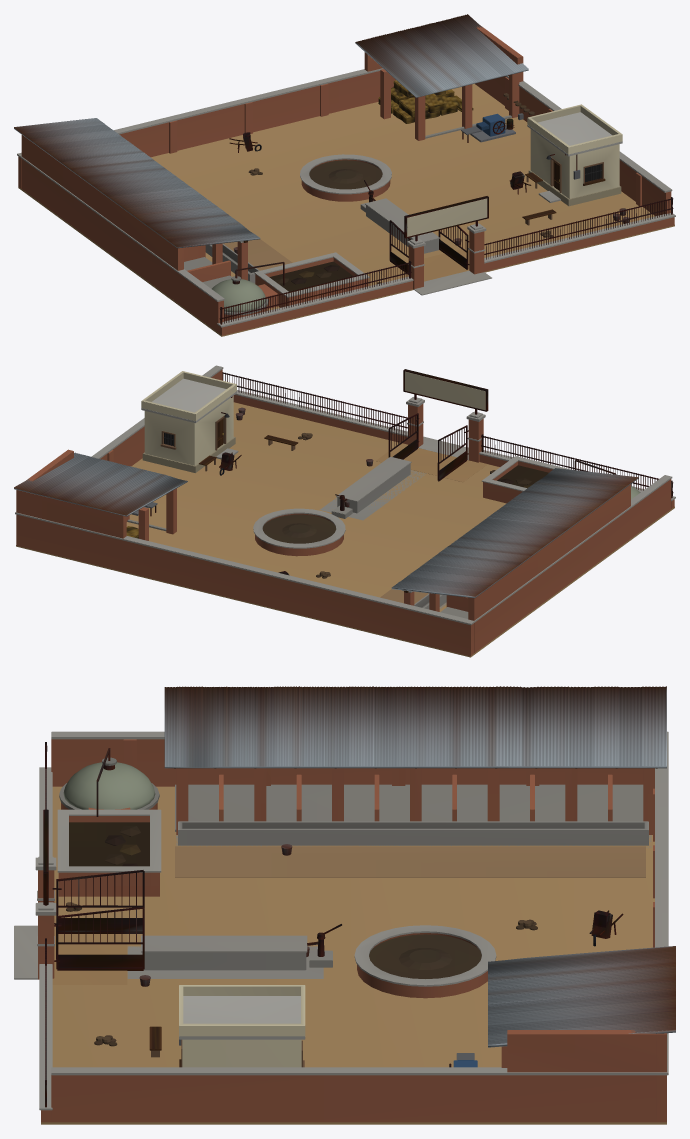
The model's file is gaushala.glb.
3 views of the same model, one above another, from view 1: azimuth 30°, elevation 25°; view 2: azimuth 150°, elevation 25°; view 3: azimuth 270°, elevation 25° (orthographic). The views are drawn at different scales.
Visible parts, largest first — view 1: hb_main, hb_brick, hb_tin, hb_metal, hb_thatch, hb_props; view 2: hb_main, hb_brick, hb_tin, hb_metal, hb_props; view 3: hb_main, hb_brick, hb_tin, hb_metal.
Boxes of the visible parts, bbox=[...] form: hb_main: bbox=[17, 68, 675, 336]; hb_brick: bbox=[18, 25, 674, 335]; hb_tin: bbox=[14, 14, 528, 248]; hb_metal: bbox=[219, 118, 673, 324]; hb_thatch: bbox=[378, 80, 473, 123]; hb_props: bbox=[243, 157, 605, 242]; hb_main: bbox=[15, 365, 675, 657]; hb_brick: bbox=[16, 369, 674, 656]; hb_tin: bbox=[14, 452, 638, 598]; hb_metal: bbox=[150, 369, 673, 575]; hb_props: bbox=[160, 415, 408, 592]; hb_main: bbox=[14, 731, 668, 1124]; hb_brick: bbox=[38, 739, 666, 1122]; hb_tin: bbox=[164, 686, 675, 1047]; hb_metal: bbox=[43, 742, 623, 1107].
Bounding box in the file's own units: 27.3 × 4.39 × 22.2.
